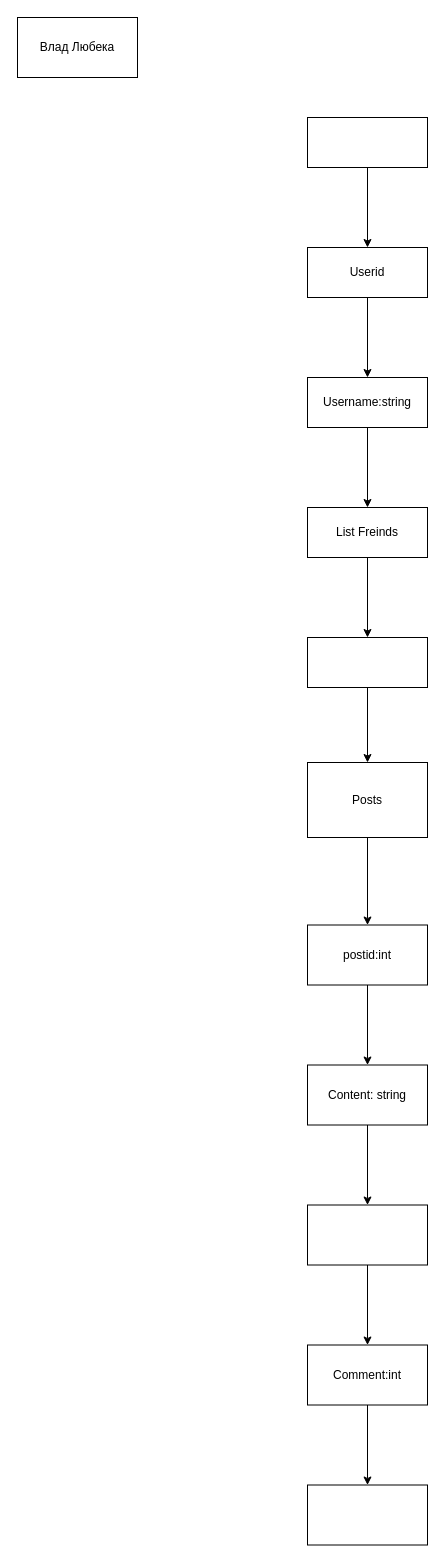
The diagram is 445 pixels wide and 1563 high, and some of its shapes have lost their labels. The centre of each missing label's shape, as x and y in pixels:
"Content:string" goes at [367,1514].
"List Comment" goes at [367,1234].
"List Posts" goes at [367,662].
"User" goes at [367,142].
